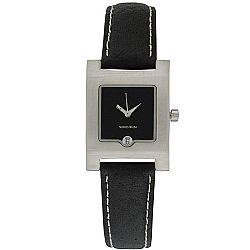watch: (75, 50, 179, 172)
